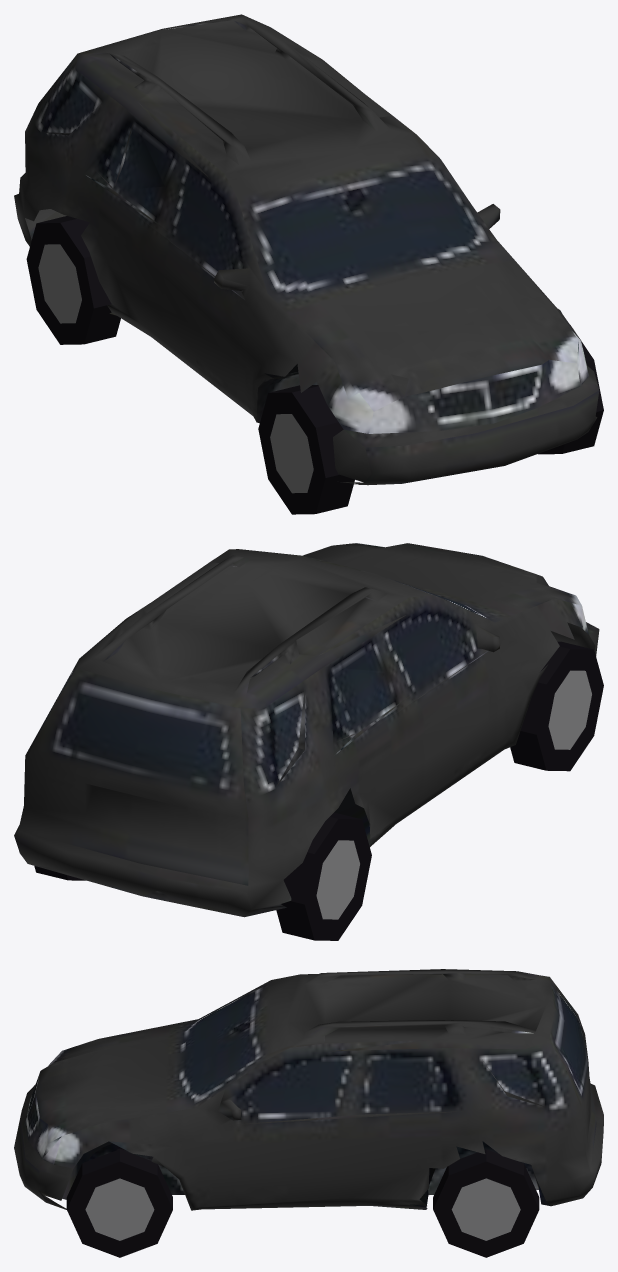
File: suv-black-far.glb
3 renders of one model, top to bottom at view 1: azimuth 30°, elevation 25°; view 2: azimuth 150°, elevation 25°; view 3: azimuth 270°, elevation 25°, orthographic. The views are drawn at different scales.
Visible parts, largest first — view 1: suv-far; view 2: suv-far; view 3: suv-far.
Part boxes in pixels (box(x1,y1,x2,y2)): suv-far: box(14, 14, 603, 514); suv-far: box(14, 543, 603, 940); suv-far: box(14, 969, 603, 1257).
Size of the model in its own units: 2.08 by 1.83 by 4.69.
Materials: 1 (1 with a texture image).
